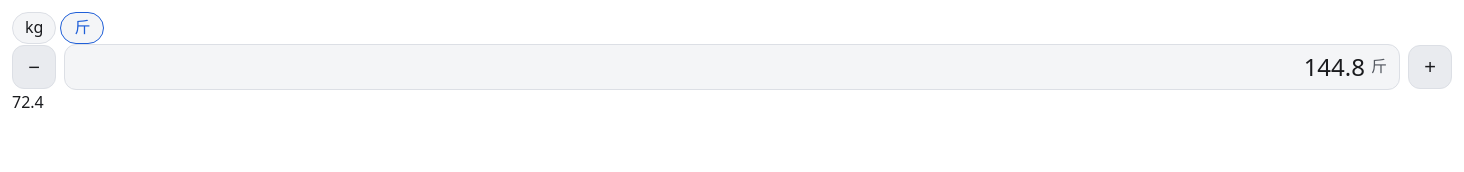
Test: 斤显示 › 斤下按一次加是 0.2 斤
Click the button named "加" at (1430,67), box [1408,45,1452,89]
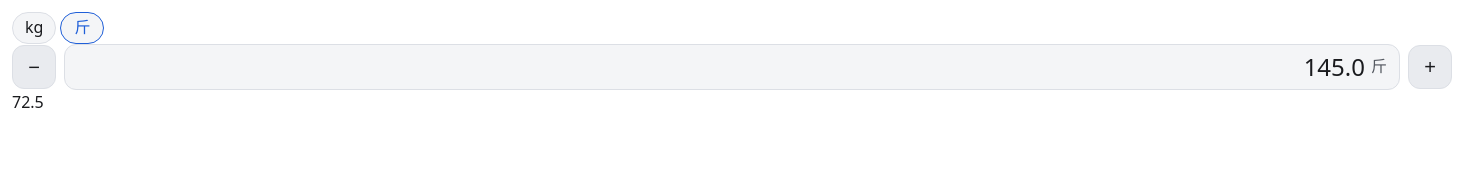
Now the field named "体重" holds "145.0", box [77,45,1367,89]
